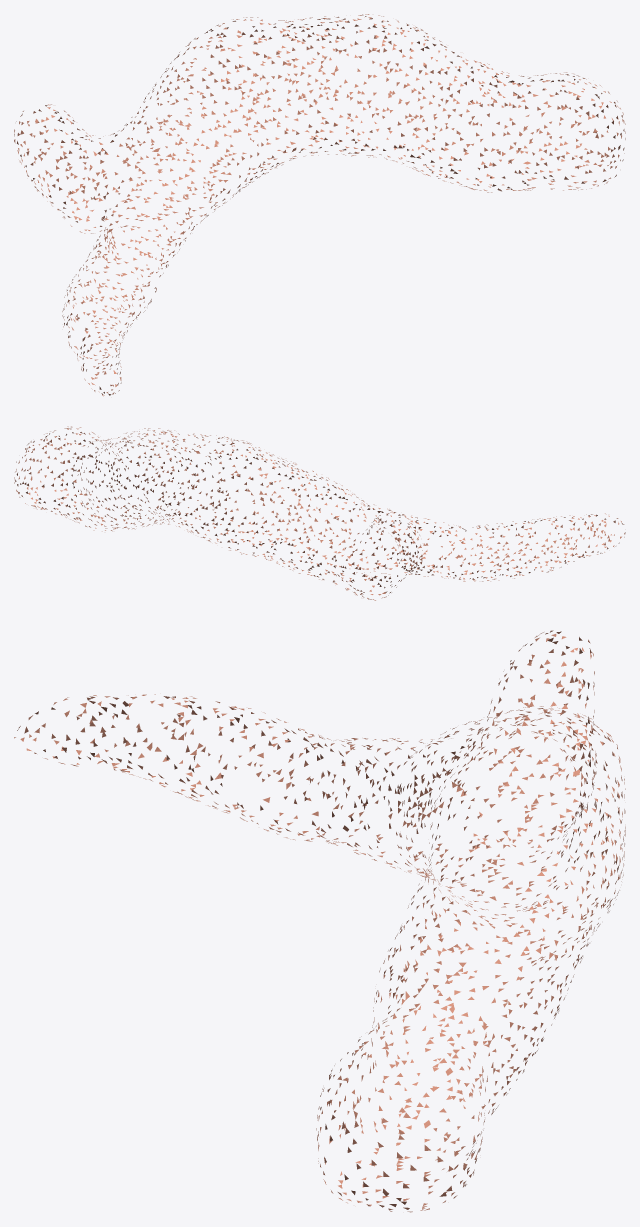
File: morph_003.glb
3 renders of one model, top to bottom at view 1: azimuth 30°, elevation 25°; view 2: azimuth 150°, elevation 25°; view 3: azimuth 270°, elevation 25°, orthographic. The views are drawn at different scales.
Size of the model in its own units: 117 by 32.78 by 64.94.
